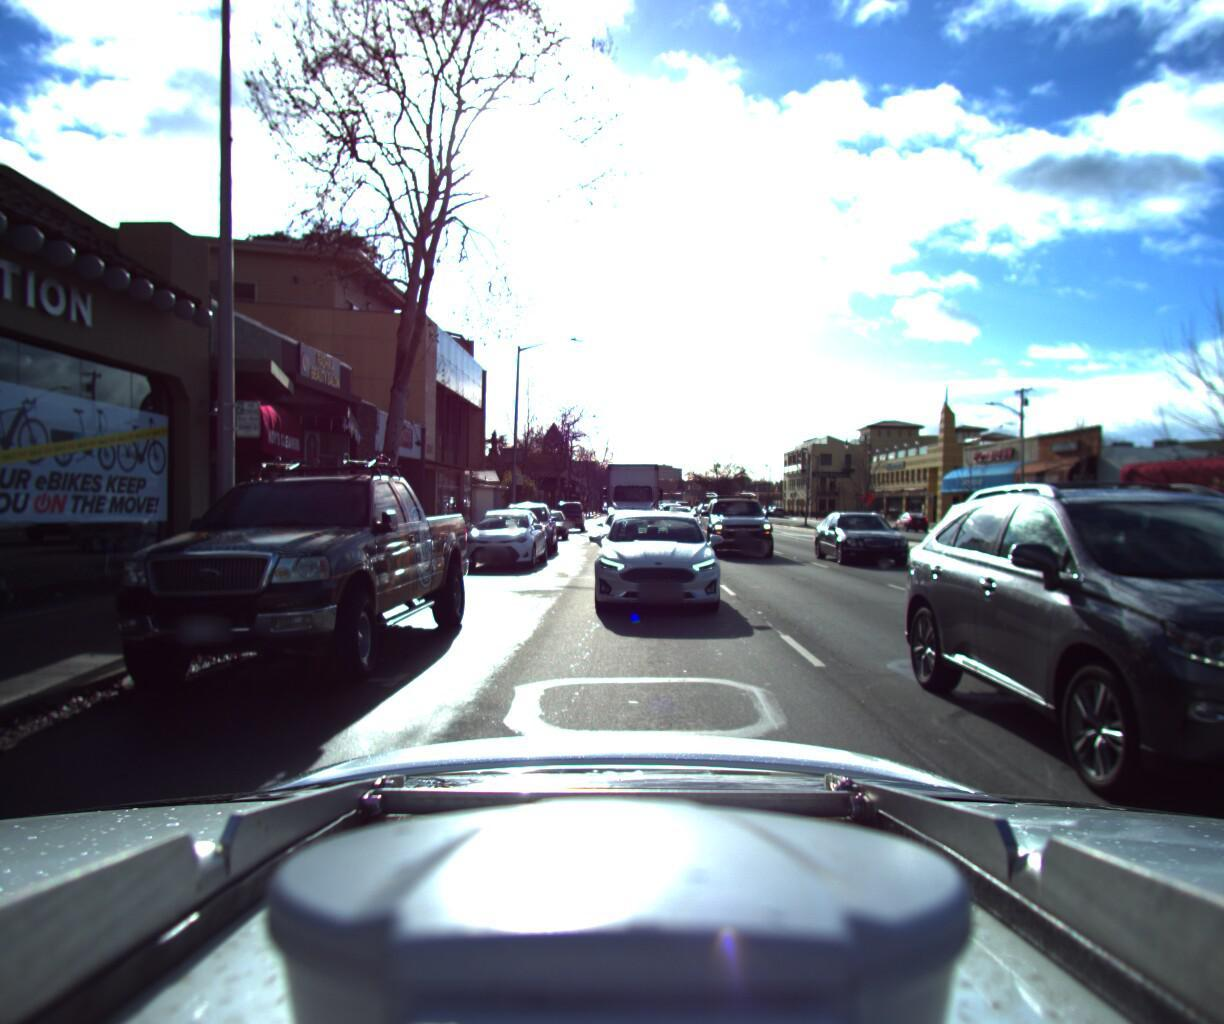car: (906, 445, 1224, 1005), (54, 434, 478, 719), (582, 503, 746, 630), (806, 503, 928, 567), (455, 499, 551, 570), (695, 483, 783, 558), (592, 502, 664, 562), (487, 494, 561, 552), (524, 502, 571, 535), (548, 493, 589, 527), (888, 507, 931, 530)
truck: (598, 453, 666, 534)
